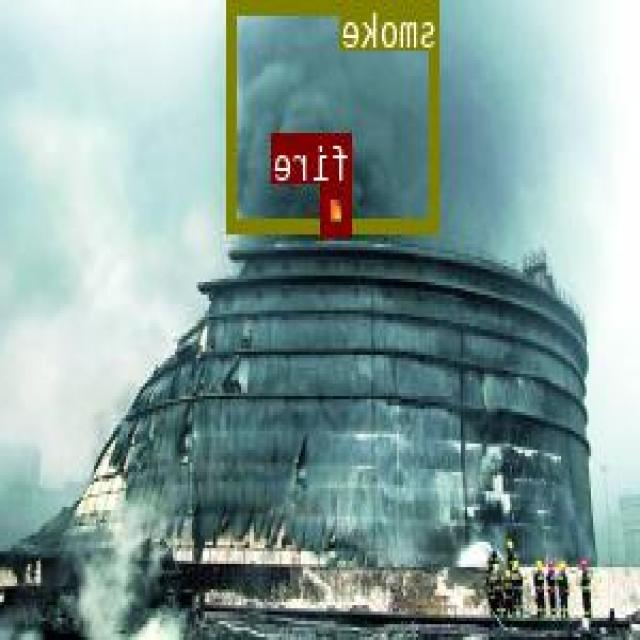fire: (324, 182, 353, 232)
smoke: (230, 0, 441, 231)
